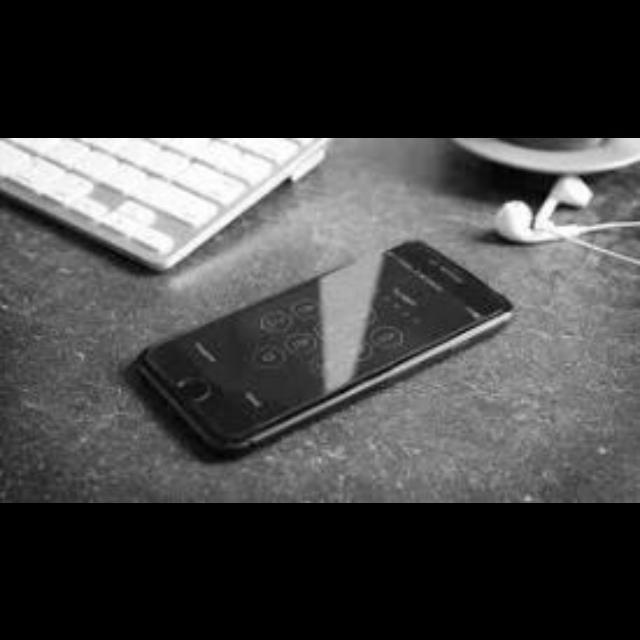fake: (122, 224, 512, 464)
